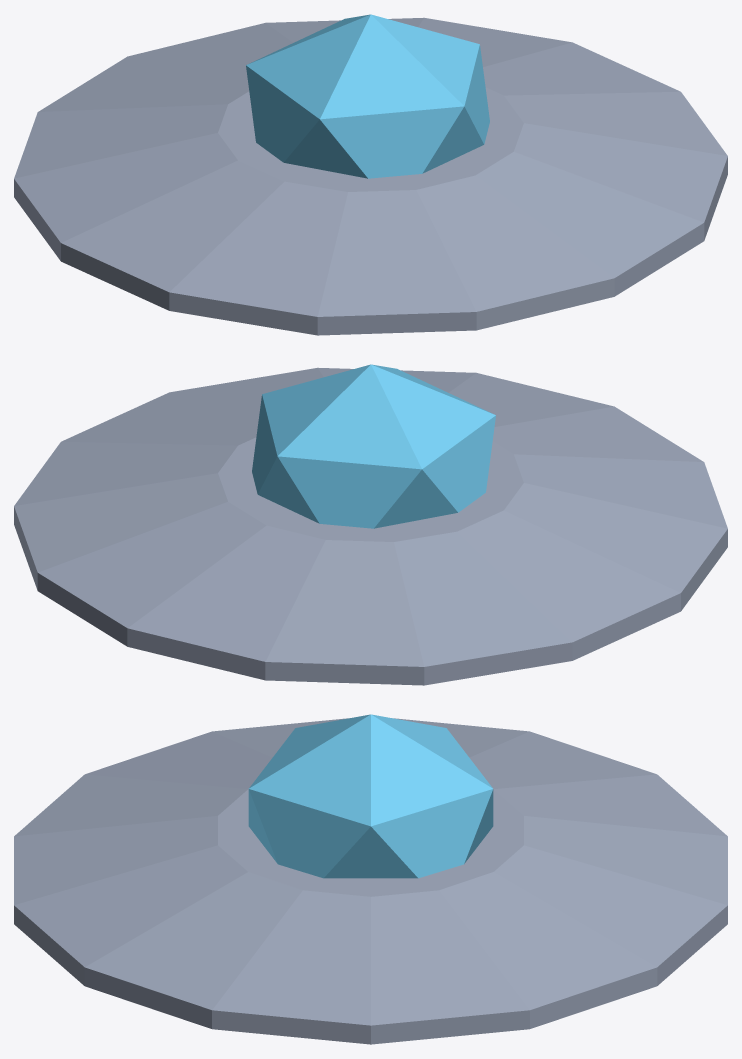
Rendered from lowpoly-ufo.glb.
3 renders of one model, top to bottom at view 1: azimuth 30°, elevation 25°; view 2: azimuth 150°, elevation 25°; view 3: azimuth 270°, elevation 25°, orthographic. The views are drawn at different scales.
Parts seen in each view (by area): view 1: ufo; view 2: ufo; view 3: ufo.
Boxes of the visible parts, bbox=[...] form: ufo: bbox=[14, 14, 727, 335]; ufo: bbox=[14, 364, 727, 685]; ufo: bbox=[14, 714, 727, 1044].
Size of the model in its own units: 2.8 by 1.04 by 2.73.
